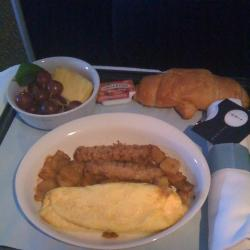hotdog: (48, 181, 184, 240)
